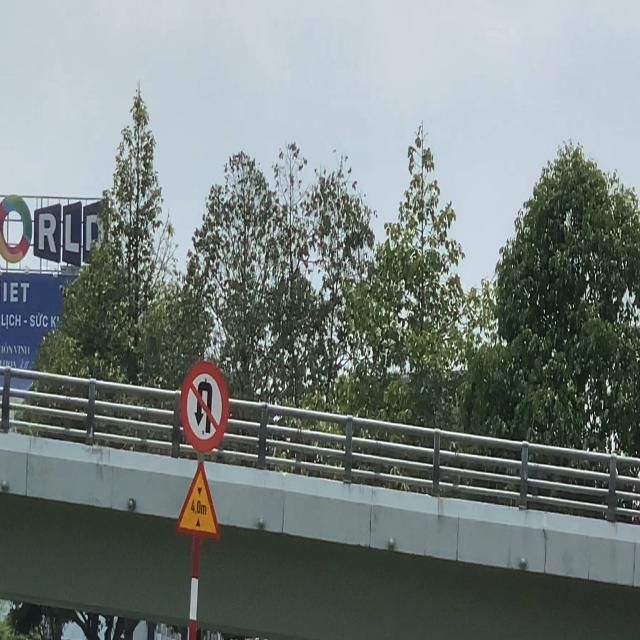Cam quay dau xe: (178, 358, 228, 454)
Nguy hiem: (174, 458, 222, 545)
